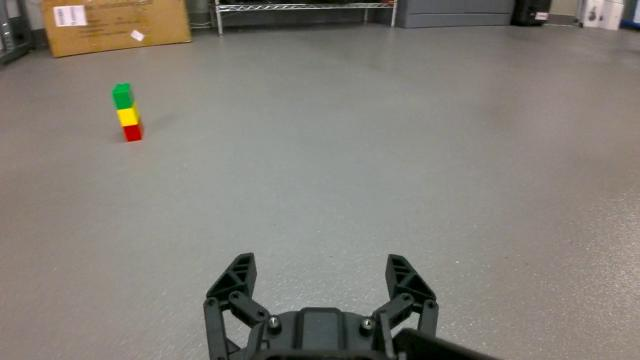lego: (112, 80, 146, 143)
